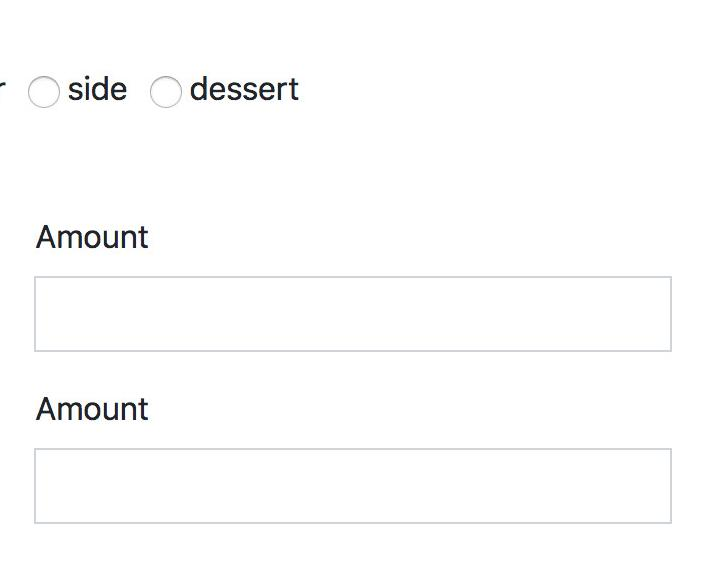field: (24, 440, 678, 527), (26, 272, 682, 354)
field_with_label: (19, 223, 692, 365), (18, 394, 683, 534)
radio: (148, 76, 197, 113), (23, 74, 66, 115)
radio_with_label: (139, 68, 294, 118), (16, 68, 123, 123)
